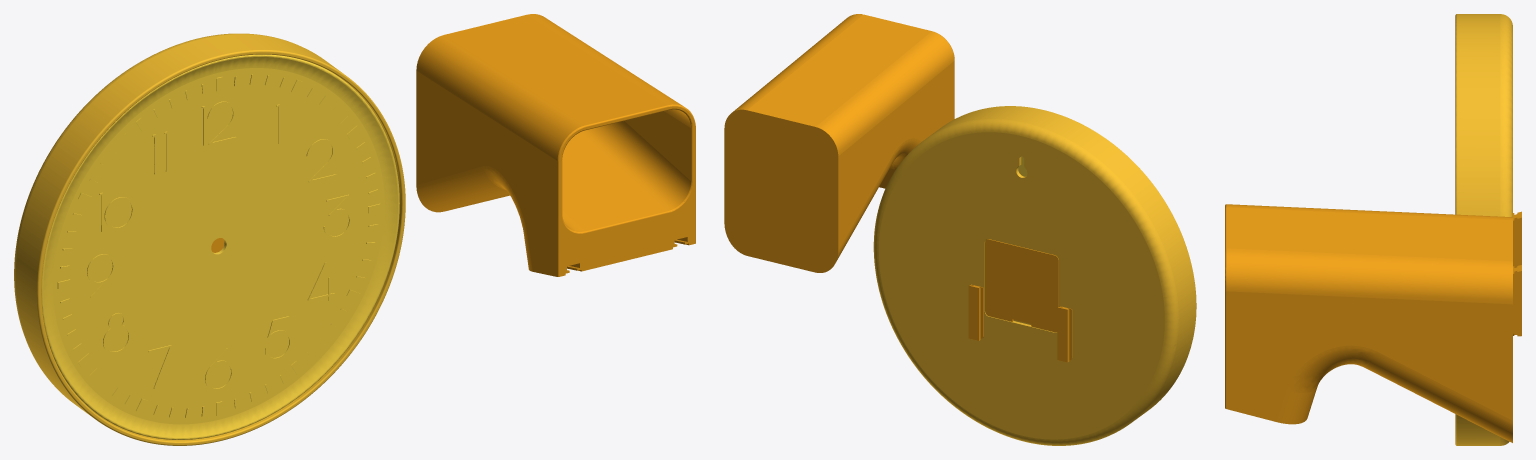
Rendered from clock.glb.
The picture shows the model from 3 angles, left to right: view 1: azimuth 30°, elevation 25°; view 2: azimuth 150°, elevation 25°; view 3: azimuth 270°, elevation 25°; orthographic projection. The views are drawn at different scales.
Visible parts, largest first — view 1: o1.3, o1.1.1, o1.2.1; view 2: o1.2.1, o1.1.1, o1.4.1, o1.5.1, o1.6.1; view 3: o1.1.1, o1.2.1, o1.6.1, o1.5.1.
Part boxes in pixels (x1,y1,x2,y2): o1.3: (41,54,399,439); o1.1.1: (416,14,695,276); o1.2.1: (14,33,405,445); o1.2.1: (873,106,1196,445); o1.1.1: (724,14,954,272); o1.4.1: (985,239,1058,332); o1.5.1: (1057,306,1072,362); o1.6.1: (968,284,983,340); o1.1.1: (1225,204,1512,442); o1.2.1: (1455,14,1512,445); o1.6.1: (1513,265,1521,336); o1.5.1: (1513,211,1521,267).
Bounding box in the file's own units: 0.355 × 0.24 × 0.165.
